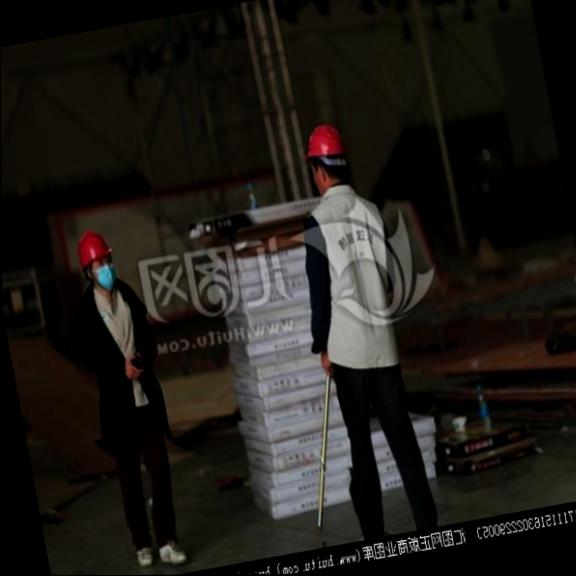no_safety_vest: (73, 271, 172, 462)
